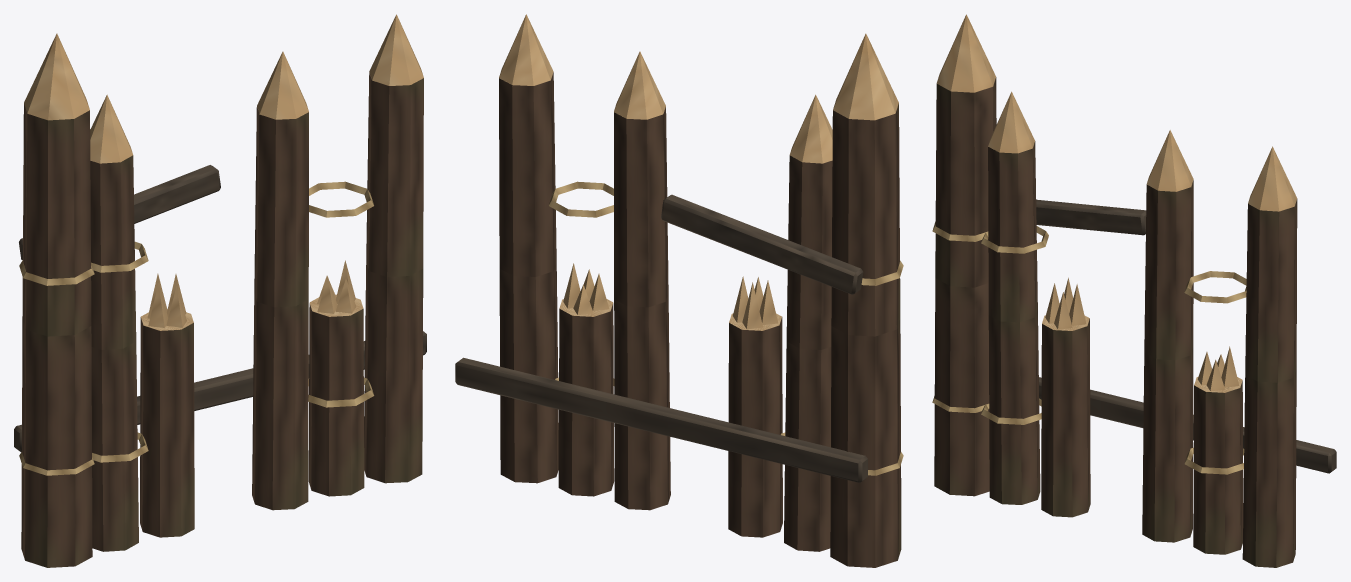
Rendered from SM_WoodenWall_Damaged.fbx.
3 views of the same model, side by side, from view 1: azimuth 30°, elevation 25°; view 2: azimuth 150°, elevation 25°; view 3: azimuth 330°, elevation 25° (orthographic). The views are drawn at different scales.
Visible parts, largest first — view 1: SM_WoodenWall_Damaged; view 2: SM_WoodenWall_Damaged; view 3: SM_WoodenWall_Damaged.
Part boxes in pixels (left/top/right/bottom): SM_WoodenWall_Damaged: left=14, top=14, right=426, bottom=567; SM_WoodenWall_Damaged: left=455, top=14, right=903, bottom=567; SM_WoodenWall_Damaged: left=932, top=14, right=1336, bottom=567.
Bounding box in the file's own units: 8.59 × 10.14 × 1.56.
1 material, 1 textured.
